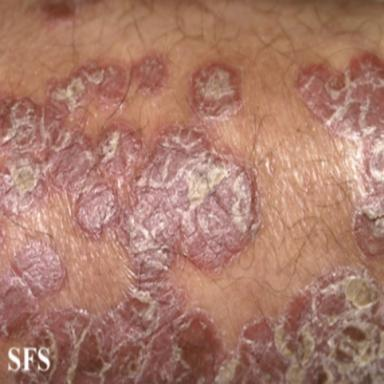Psoriasis: (0, 55, 384, 383), (295, 53, 384, 255), (38, 0, 79, 22)
